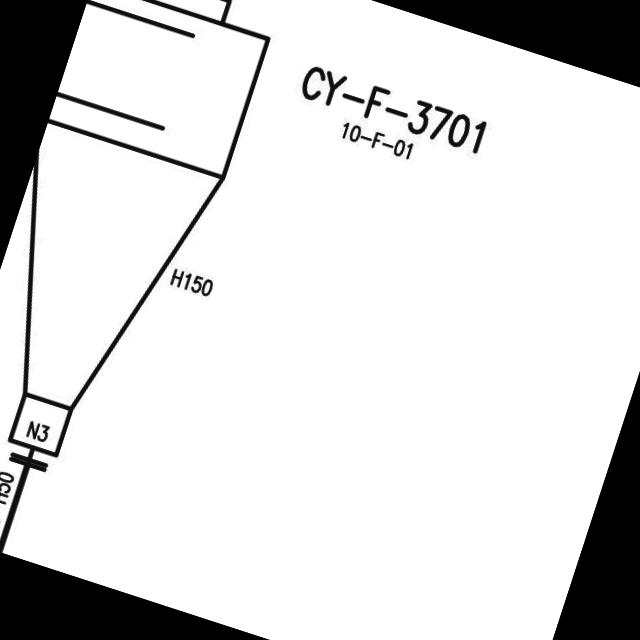CY: (0, 0, 293, 507)
